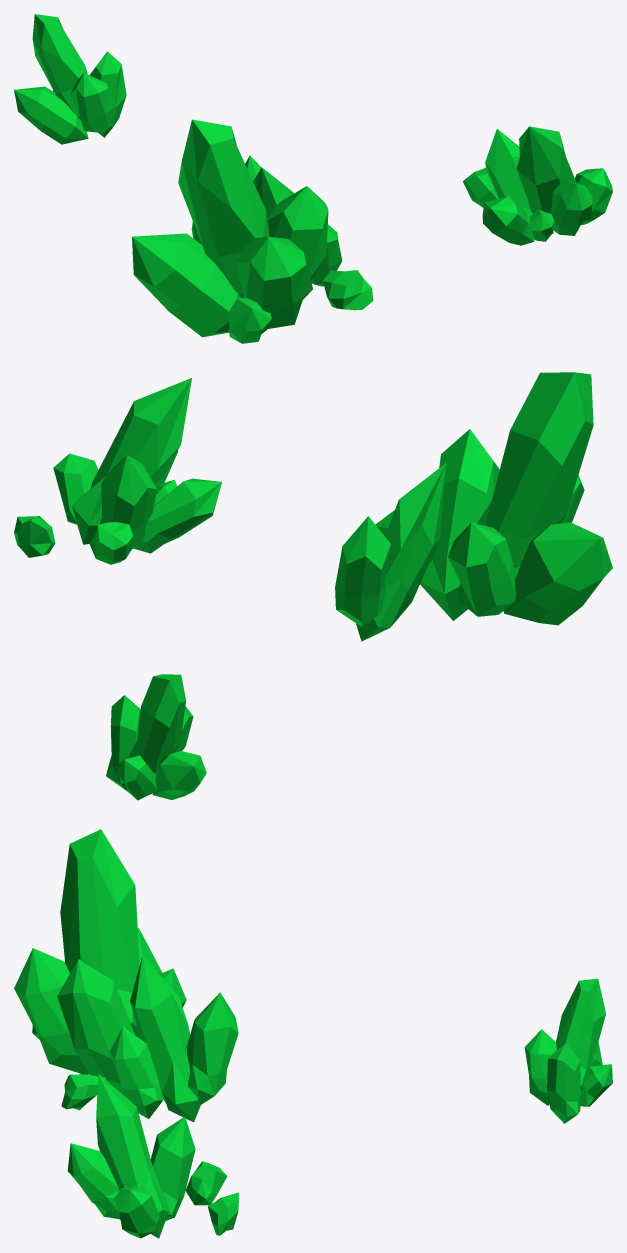
File: crystal.fbx
3 renders of one model, top to bottom at view 1: azimuth 30°, elevation 25°; view 2: azimuth 150°, elevation 25°; view 3: azimuth 270°, elevation 25°, orthographic. The views are drawn at different scales.
Parts seen in each view (by area): view 1: crystal; view 2: crystal; view 3: crystal.
Part boxes in pixels (left/top/right/bottom): crystal: left=14, top=14, right=612, bottom=343; crystal: left=14, top=372, right=612, bottom=800; crystal: left=14, top=829, right=612, bottom=1238.
Bounding box in the file's own units: 349 × 164 × 391.
